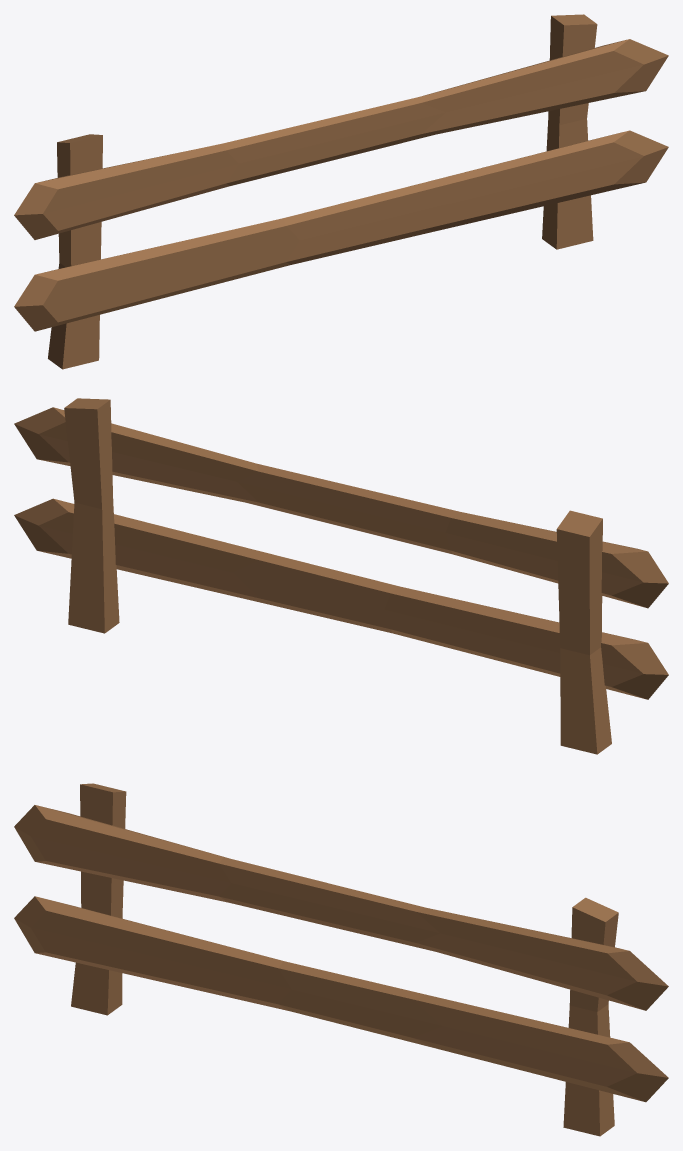
Rendered from Fence_2.fbx.
The picture shows the model from 3 angles, top to bottom: view 1: azimuth 30°, elevation 25°; view 2: azimuth 150°, elevation 25°; view 3: azimuth 330°, elevation 25°; orthographic projection.
Visible parts, largest first — view 1: Fence2_mesh; view 2: Fence2_mesh; view 3: Fence2_mesh.
Part boxes in pixels (left/top/right/bottom): Fence2_mesh: left=14, top=14, right=668, bottom=369; Fence2_mesh: left=14, top=398, right=668, bottom=754; Fence2_mesh: left=14, top=783, right=668, bottom=1136.
Bounding box in the file's own units: 311 × 102 × 20.56.
